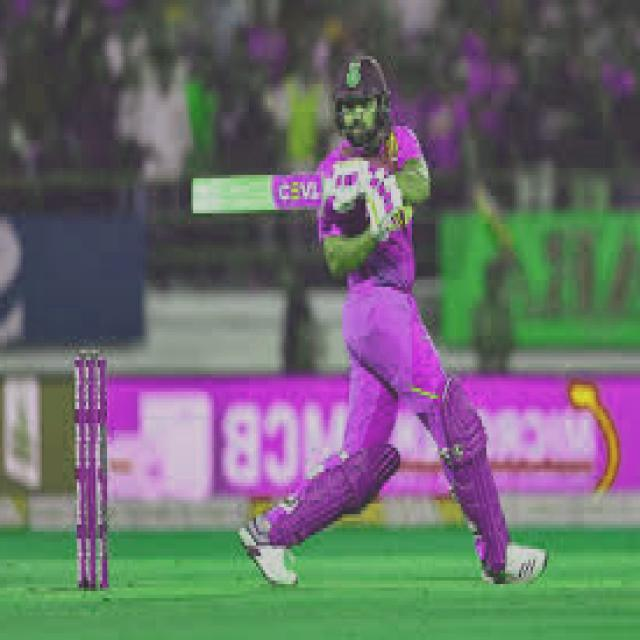toe: (184, 176, 208, 214)
